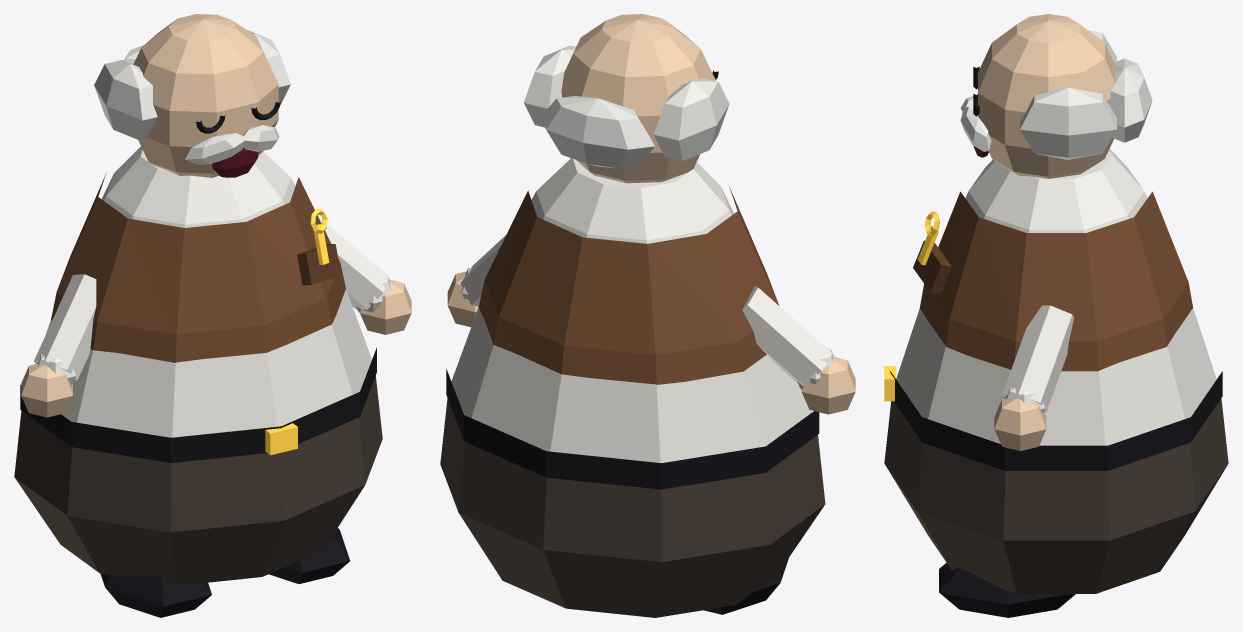
File: npc_empleado.glb
3 renders of one model, left to right at view 1: azimuth 30°, elevation 25°; view 2: azimuth 150°, elevation 25°; view 3: azimuth 270°, elevation 25°, orthographic. The views are drawn at different scales.
Parts seen in each view (by area): view 1: body_clerk_pants, body_vest_brown, body_shirt_white, head_skin_crema, body_black, arms_shirt_white, legs_black, head_hair_white, arms_skin_crema, face_hair_white, body_vest_pocket, face_mouth (+2 smaller); view 2: body_clerk_pants, body_shirt_white, body_vest_brown, head_skin_crema, head_hair_white, body_black, arms_shirt_white, arms_skin_crema, legs_black; view 3: body_clerk_pants, body_vest_brown, body_shirt_white, head_skin_crema, body_black, head_hair_white, arms_shirt_white, legs_black, arms_skin_crema, body_vest_pocket, face_hair_white, key_gold.
Boxes of the visible parts, box(x1,y1,x2,y2) form: body_clerk_pants: box(14, 376, 382, 584); body_vest_brown: box(51, 173, 345, 362); body_shirt_white: box(46, 146, 371, 437); head_skin_crema: box(133, 14, 278, 177); body_black: box(20, 347, 376, 462); arms_shirt_white: box(34, 217, 391, 385); legs_black: box(100, 528, 349, 617); head_hair_white: box(94, 30, 290, 139); arms_skin_crema: box(21, 280, 411, 417); face_hair_white: box(185, 125, 279, 164); body_vest_pocket: box(297, 244, 340, 285); face_mouth: box(212, 147, 258, 177); body_clerk_pants: box(440, 398, 825, 617); body_shirt_white: box(451, 158, 811, 462); body_vest_brown: box(478, 186, 779, 384); head_skin_crema: box(561, 14, 715, 183); head_hair_white: box(523, 45, 729, 168); body_black: box(446, 369, 819, 489); arms_shirt_white: box(460, 235, 834, 388); arms_skin_crema: box(447, 271, 855, 414); legs_black: box(704, 558, 788, 614); body_clerk_pants: box(884, 398, 1228, 593); body_vest_brown: box(920, 191, 1192, 371); body_shirt_white: box(896, 149, 1216, 445); head_skin_crema: box(978, 14, 1115, 178); body_black: box(890, 371, 1222, 470); head_hair_white: box(1020, 30, 1152, 159); arms_shirt_white: box(1002, 305, 1074, 412); legs_black: box(939, 563, 1075, 617); arms_skin_crema: box(994, 398, 1046, 450); body_vest_pocket: box(913, 240, 951, 293); face_hair_white: box(960, 96, 991, 151); key_gold: box(917, 211, 939, 265).
Bounding box in the file's own units: 1.13 × 1.53 × 0.86.
